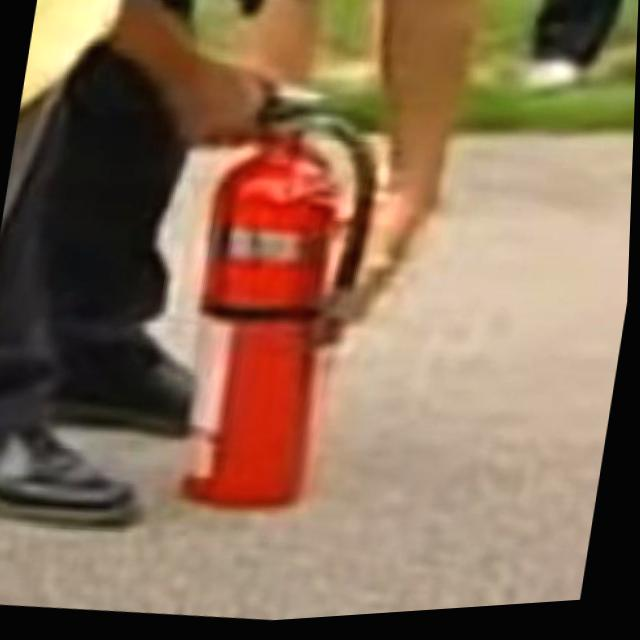FireExtinguisher: (110, 56, 420, 537)
